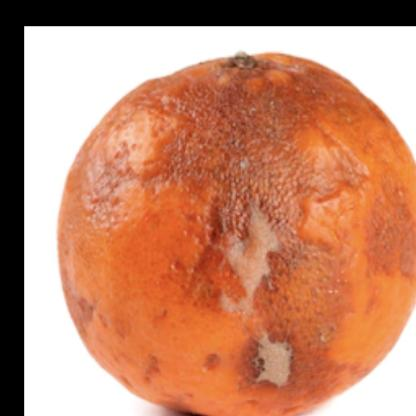rotten: (58, 54, 416, 416)
